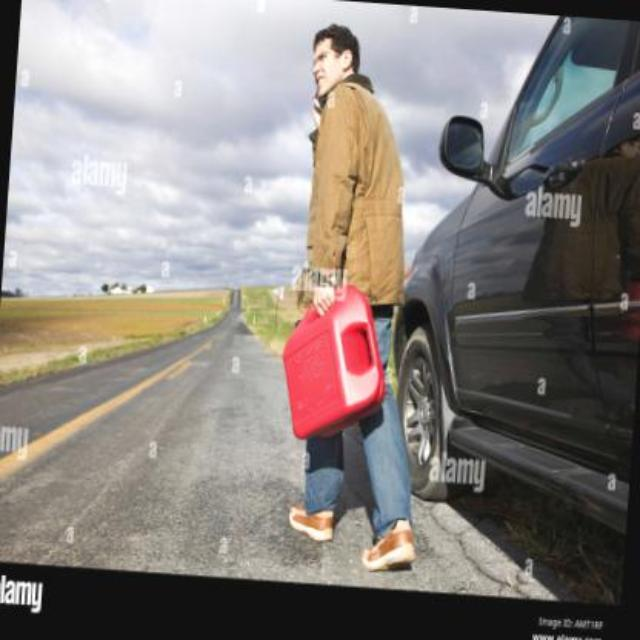chemical_plastic_gallon: (272, 273, 396, 453)
